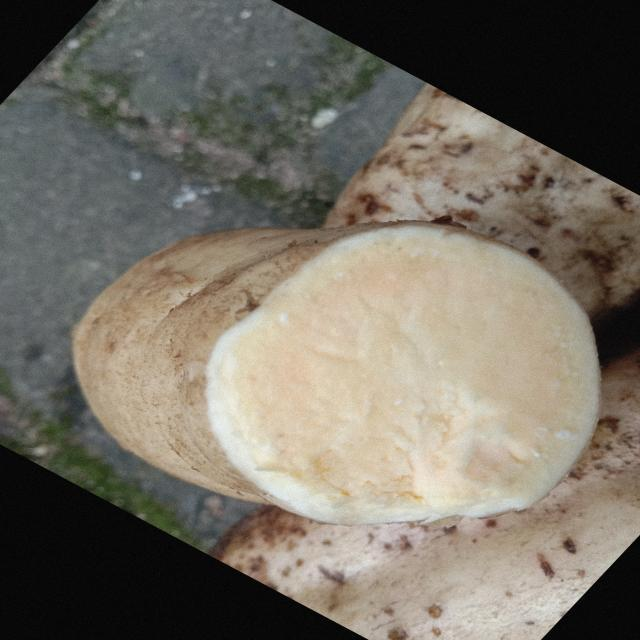Healthy Sweet Potato: (207, 224, 598, 525)
